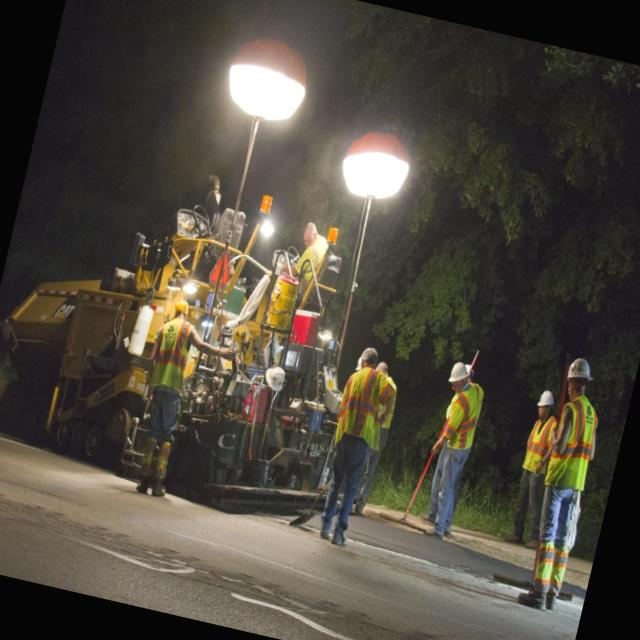helmet: (561, 352, 596, 388), (445, 354, 479, 390), (168, 294, 198, 328), (536, 383, 560, 410)
no-helmet: (356, 339, 384, 366), (302, 213, 323, 240)
vest: (538, 396, 608, 502), (328, 364, 398, 459), (138, 312, 204, 408), (432, 387, 488, 462), (516, 412, 558, 488), (294, 239, 330, 290)
